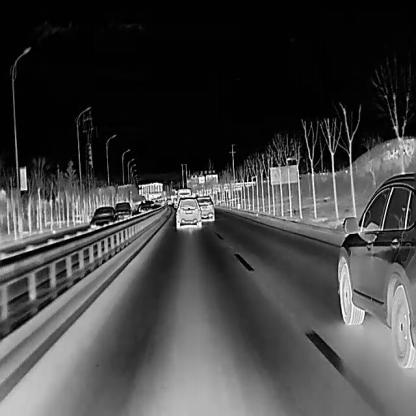bus: (176, 187, 191, 207)
car: (336, 170, 415, 369), (88, 205, 120, 237), (174, 196, 202, 229), (196, 194, 214, 222), (114, 201, 132, 222), (138, 200, 153, 214)
